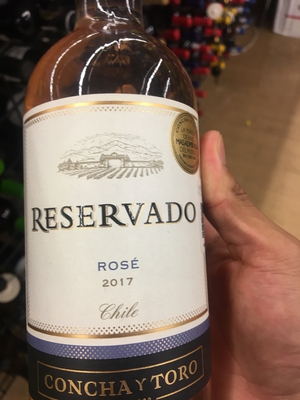reservado rose: (24, 9, 209, 400)
